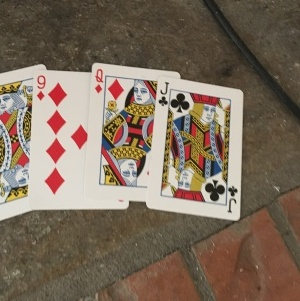card: (147, 78, 245, 223), (88, 60, 153, 203), (33, 66, 94, 209)
